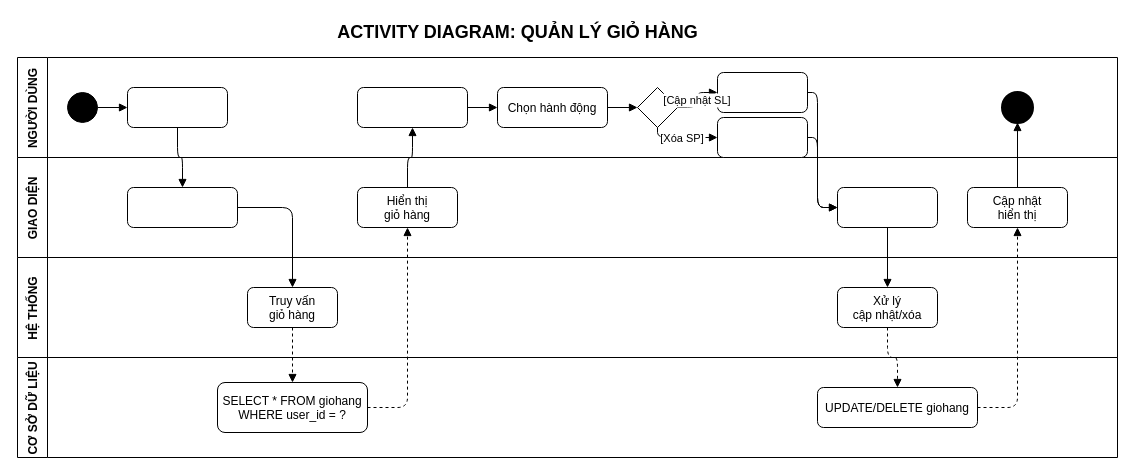
The diagram is 1135 pixels wide and 475 high, and some of its shapes have lost their labels. The shapes that lost their labels are listed below. From the top down, each one's centre as x and y in pixels, then its label:
point (177, 107): Mở giỏ hàng
point (412, 107): Xem danh sách sản phẩm
point (762, 92): Cập nhật số lượng
point (762, 137): Xóa sản phẩm
point (182, 207): Gửi yêu cầu load giỏ hàng
point (887, 207): Gửi yêu cầu cập nhật
